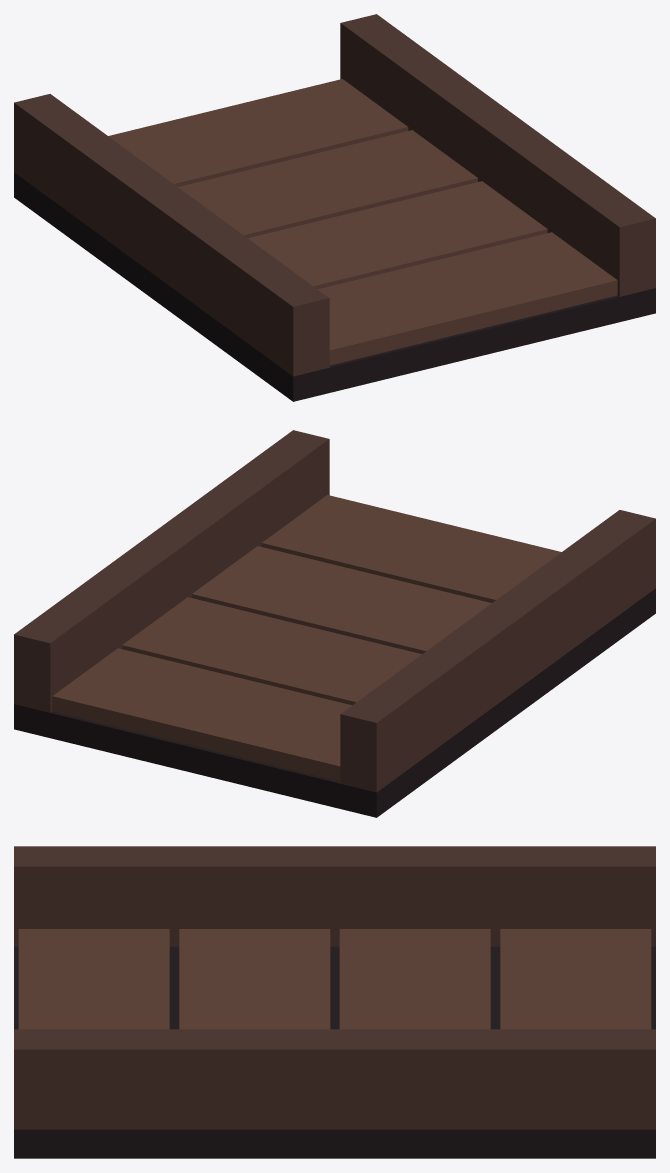
File: bridge_4m.glb
3 renders of one model, top to bottom at view 1: azimuth 30°, elevation 25°; view 2: azimuth 150°, elevation 25°; view 3: azimuth 270°, elevation 25°, orthographic. The views are drawn at different scales.
Visible parts, largest first — view 1: bridge_4m; view 2: bridge_4m; view 3: bridge_4m.
Part boxes in pixels (x1=…): bridge_4m: x1=14, y1=14, x2=655, y2=401; bridge_4m: x1=14, y1=430, x2=655, y2=817; bridge_4m: x1=14, y1=846, x2=655, y2=1158.
Bounding box in the file's own units: 3 × 0.75 × 4.
